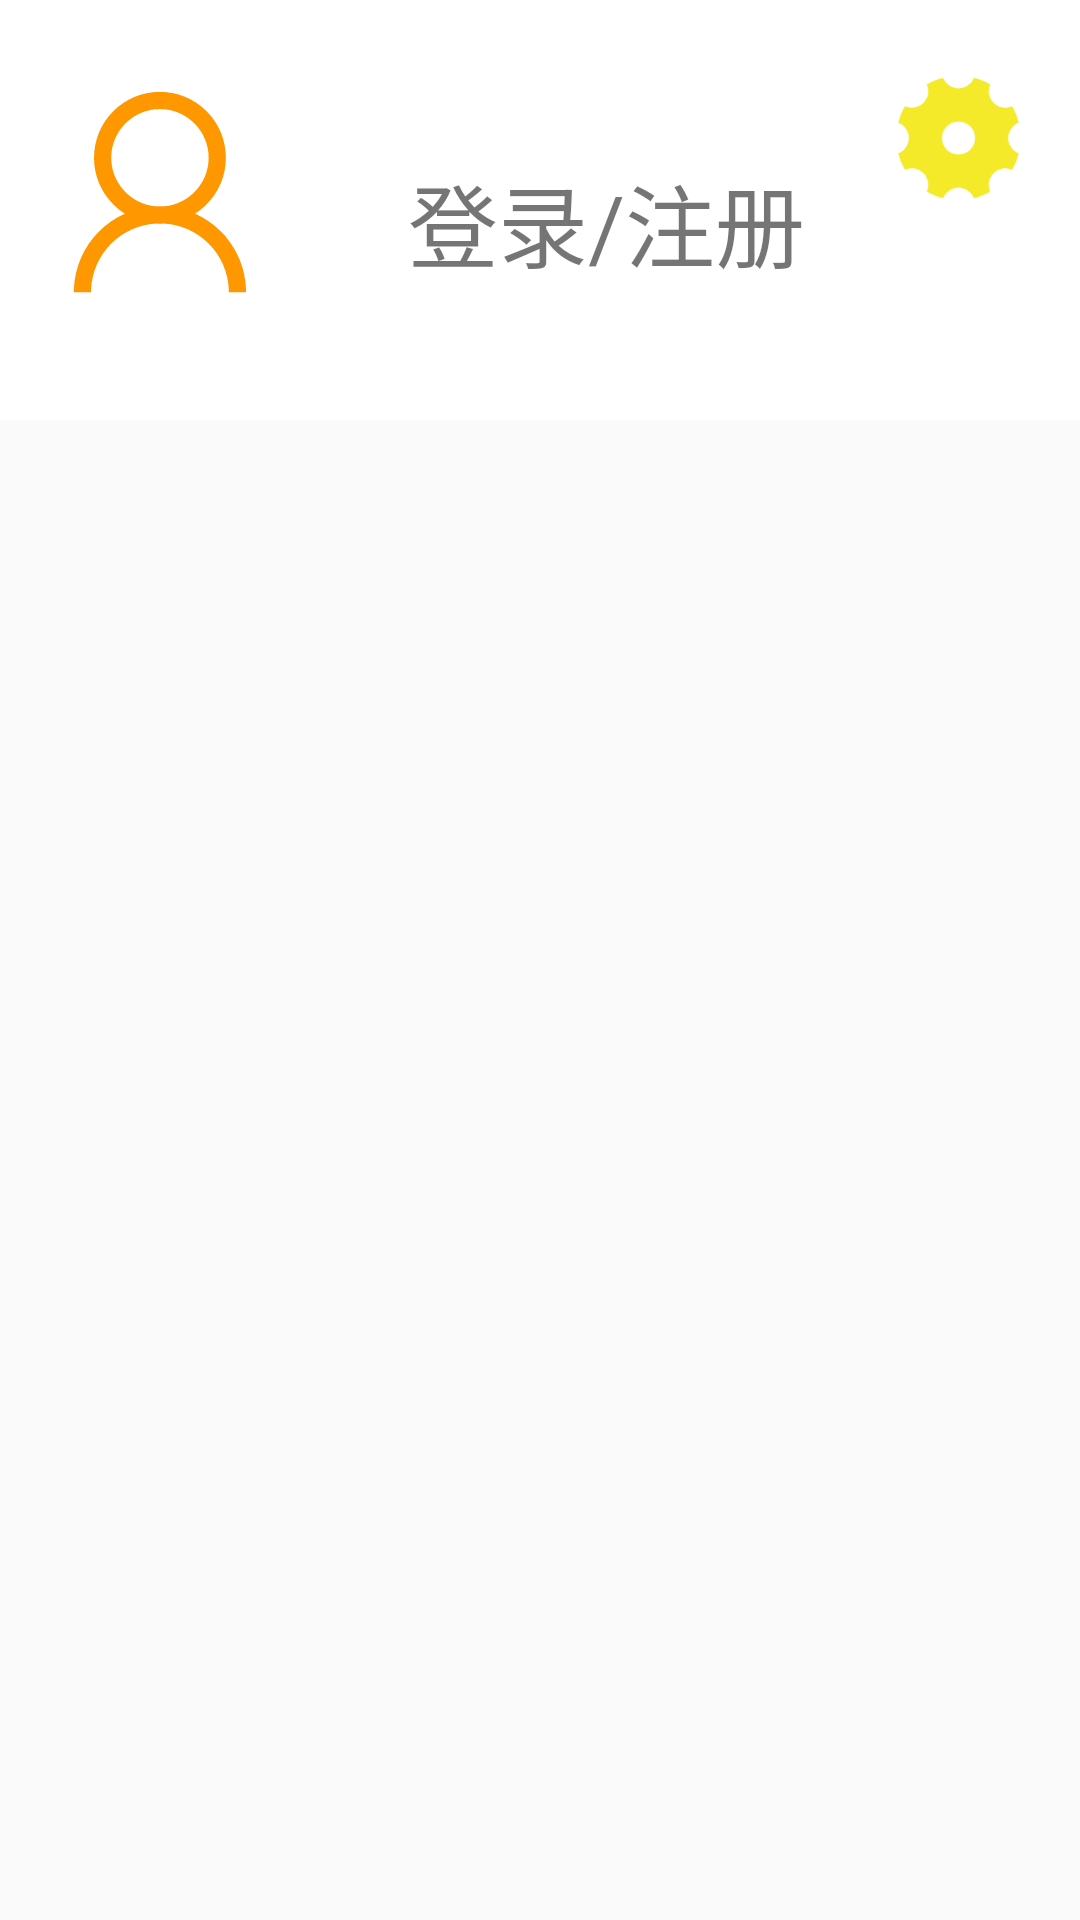

Icons on this 1080 × 1920 Android screen, each with the point to tap as [x,y]:
setting: [958,138]
user: [159,192]
